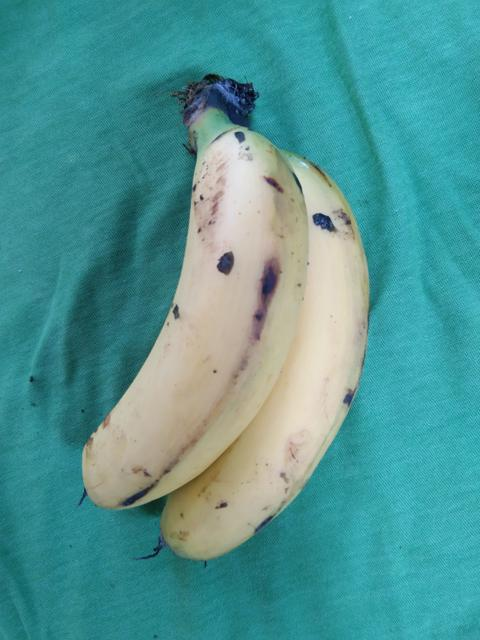ripe: (148, 154, 374, 566), (70, 119, 301, 520)
